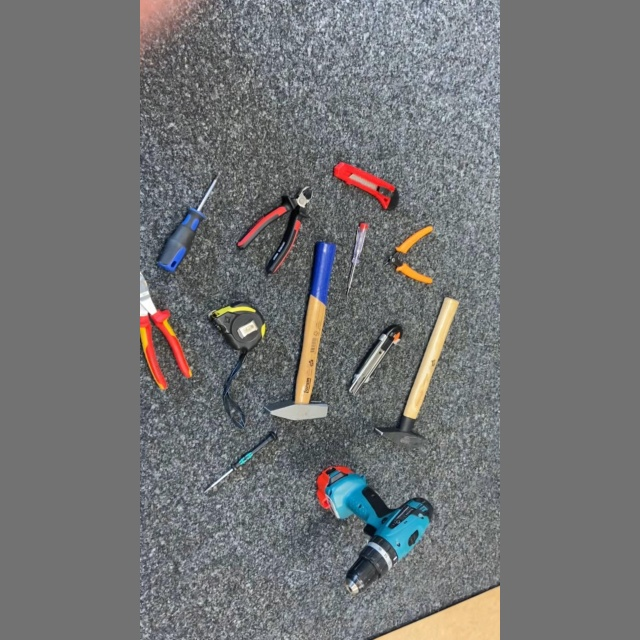drill: (313, 462, 438, 596)
screwdriver: (151, 167, 225, 275), (201, 429, 281, 496), (345, 221, 370, 298)
